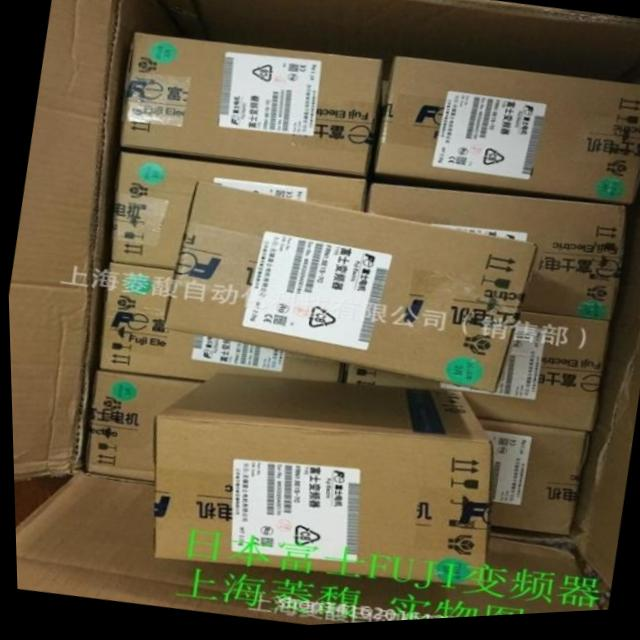box: (159, 179, 538, 399), (151, 373, 491, 592), (373, 58, 640, 210), (119, 33, 381, 181), (364, 186, 625, 326), (344, 319, 607, 437), (95, 263, 343, 384), (108, 155, 366, 271), (474, 422, 588, 542), (83, 371, 197, 483)
